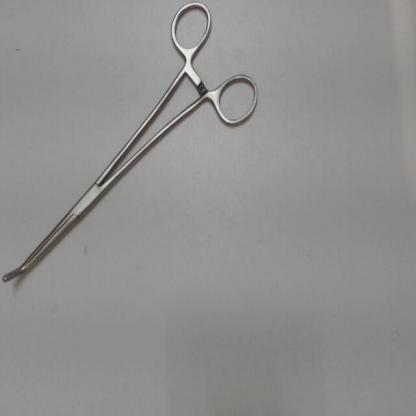Lahey Forceps: (1, 0, 265, 299)
